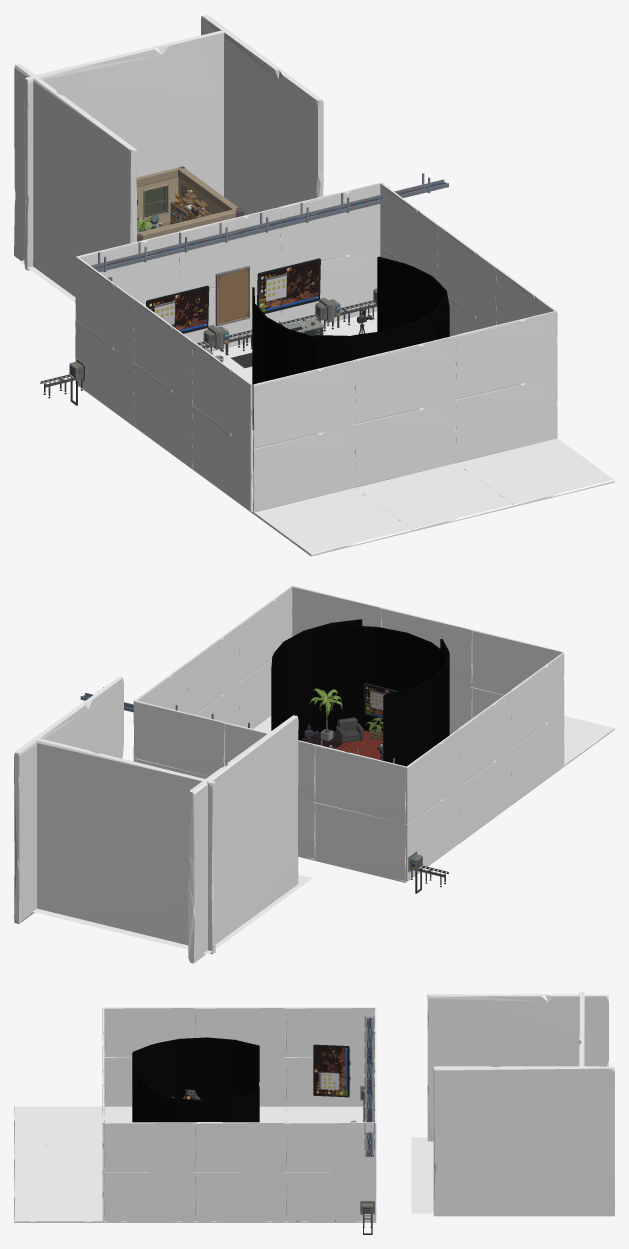
The model's file is room.glb.
3 renders of one model, top to bottom at view 1: azimuth 30°, elevation 25°; view 2: azimuth 150°, elevation 25°; view 3: azimuth 270°, elevation 25°, orthographic. The views are drawn at different scales.
Visible parts, largest first — view 1: SM_Buildings_Wall_5x3_01P (9) (×2), SM_Buildings_Wall_5x3_01P (11) (×2), SM_Buildings_Wall_5x3_01P (10) (×2), SM_Buildings_Wall_5x3_01P (3) (×3), SM_Buildings_Wall_5x3_01P (5) (×3), SM_Buildings_Wall_5x3_01P (4) (×3), SM_Buildings_Wall_5x3_01P (2) (×2), SM_Buildings_Wall_5x3_01P (8), SM_Buildings_Wall_5x3_01P (7), SM_Buildings_Wall_5x3_01P (6), SM_Buildings_Floor_5x5_01P (10), SM_Buildings_Wall_5x3_01P (×3) (+15 smaller); view 2: SM_Buildings_Wall_5x3_01P (9) (×2), SM_Buildings_Wall_5x3_01P (11), SM_Buildings_Wall_5x3_01P (5) (×3), SM_Buildings_Wall_5x3_01P (10) (×2), SM_Buildings_Wall_5x3_01P (4) (×3), SM_Buildings_Wall_5x3_01P (3) (×3), SM_Buildings_Wall_5x3_01P (1) (×2), SM_Buildings_WallCurved_5x5_01P (1), SM_Buildings_Wall_5x3_01P (×3), SM_Buildings_Wall_5x3_01P (2) (×2), SM_Buildings_WallCurved_5x5_01P (6), SM_Buildings_Wall_5x3_01P (8) (+12 smaller); view 3: SM_Buildings_Wall_5x3_01P (10), SM_Buildings_Wall_5x3_01P (11), SM_Buildings_Wall_5x3_01P (5) (×2), SM_Buildings_Wall_5x3_01P (3) (×2), SM_Buildings_Wall_5x3_01P (4) (×2), SM_Buildings_Wall_5x3_01P (1) (×2), SM_Buildings_Wall_5x3_01P (2) (×2), SM_Buildings_Wall_5x3_01P (×2), SM_Buildings_WallCurved_5x5_01P (6), SM_Buildings_Floor_5x5_01P (11), SM_Buildings_Floor_5x5_01P (9), SM_Buildings_Floor_5x5_01P (10) (+12 smaller).
Part boxes in pixels (left/top/right/bottom): SM_Buildings_Wall_5x3_01P (9) (×2): left=24, top=29, right=355, bottom=448; SM_Buildings_Wall_5x3_01P (11) (×2): left=14, top=64, right=557, bottom=462; SM_Buildings_Wall_5x3_01P (10) (×2): left=201, top=14, right=557, bottom=399; SM_Buildings_Wall_5x3_01P (3) (×3): left=134, top=207, right=497, bottom=405; SM_Buildings_Wall_5x3_01P (5) (×3): left=192, top=182, right=555, bottom=448; SM_Buildings_Wall_5x3_01P (4) (×3): left=75, top=182, right=438, bottom=362; SM_Buildings_Wall_5x3_01P (2) (×2): left=192, top=247, right=380, bottom=511; SM_Buildings_Wall_5x3_01P (8): left=354, top=335, right=456, bottom=423; SM_Buildings_Wall_5x3_01P (7): left=253, top=424, right=355, bottom=512; SM_Buildings_Wall_5x3_01P (6): left=354, top=399, right=456, bottom=487; SM_Buildings_Floor_5x5_01P (10): left=253, top=487, right=412, bottom=556; SM_Buildings_Wall_5x3_01P (×3): left=134, top=277, right=488, bottom=468; SM_Buildings_Wall_5x3_01P (9) (×2): left=32, top=629, right=563, bottom=954; SM_Buildings_Wall_5x3_01P (11): left=188, top=715, right=298, bottom=963; SM_Buildings_Wall_5x3_01P (5) (×3): left=133, top=586, right=564, bottom=775; SM_Buildings_Wall_5x3_01P (10) (×2): left=14, top=585, right=381, bottom=923; SM_Buildings_Wall_5x3_01P (4) (×3): left=133, top=662, right=459, bottom=824; SM_Buildings_Wall_5x3_01P (3) (×3): left=186, top=624, right=511, bottom=801; SM_Buildings_Wall_5x3_01P (1) (×2): left=315, top=787, right=459, bottom=881; SM_Buildings_WallCurved_5x5_01P (1): left=314, top=625, right=446, bottom=689; SM_Buildings_Wall_5x3_01P (×3): left=195, top=682, right=511, bottom=858; SM_Buildings_Wall_5x3_01P (2) (×2): left=239, top=658, right=564, bottom=804; SM_Buildings_WallCurved_5x5_01P (6): left=383, top=639, right=449, bottom=752; SM_Buildings_Wall_5x3_01P (8): left=381, top=607, right=472, bottom=686; SM_Buildings_Wall_5x3_01P (10): left=433, top=1066, right=614, bottom=1216; SM_Buildings_Wall_5x3_01P (11): left=427, top=994, right=608, bottom=1141; SM_Buildings_Wall_5x3_01P (5) (×2): left=104, top=1007, right=195, bottom=1172; SM_Buildings_Wall_5x3_01P (3) (×2): left=195, top=1007, right=285, bottom=1172; SM_Buildings_Wall_5x3_01P (4) (×2): left=286, top=1007, right=376, bottom=1172; SM_Buildings_Wall_5x3_01P (1) (×2): left=286, top=1057, right=376, bottom=1221; SM_Buildings_Wall_5x3_01P (2) (×2): left=104, top=1057, right=195, bottom=1221; SM_Buildings_Wall_5x3_01P (×2): left=195, top=1057, right=285, bottom=1221; SM_Buildings_WallCurved_5x5_01P (6): left=132, top=1037, right=259, bottom=1100; SM_Buildings_Floor_5x5_01P (11): left=14, top=1183, right=104, bottom=1222; SM_Buildings_Floor_5x5_01P (9): left=14, top=1145, right=102, bottom=1183; SM_Buildings_Floor_5x5_01P (10): left=14, top=1106, right=102, bottom=1145.
Size of what is drawn, in the model's own units: 19.99 by 9.49 by 33.16.
Materials: 14 (11 with a texture image).
